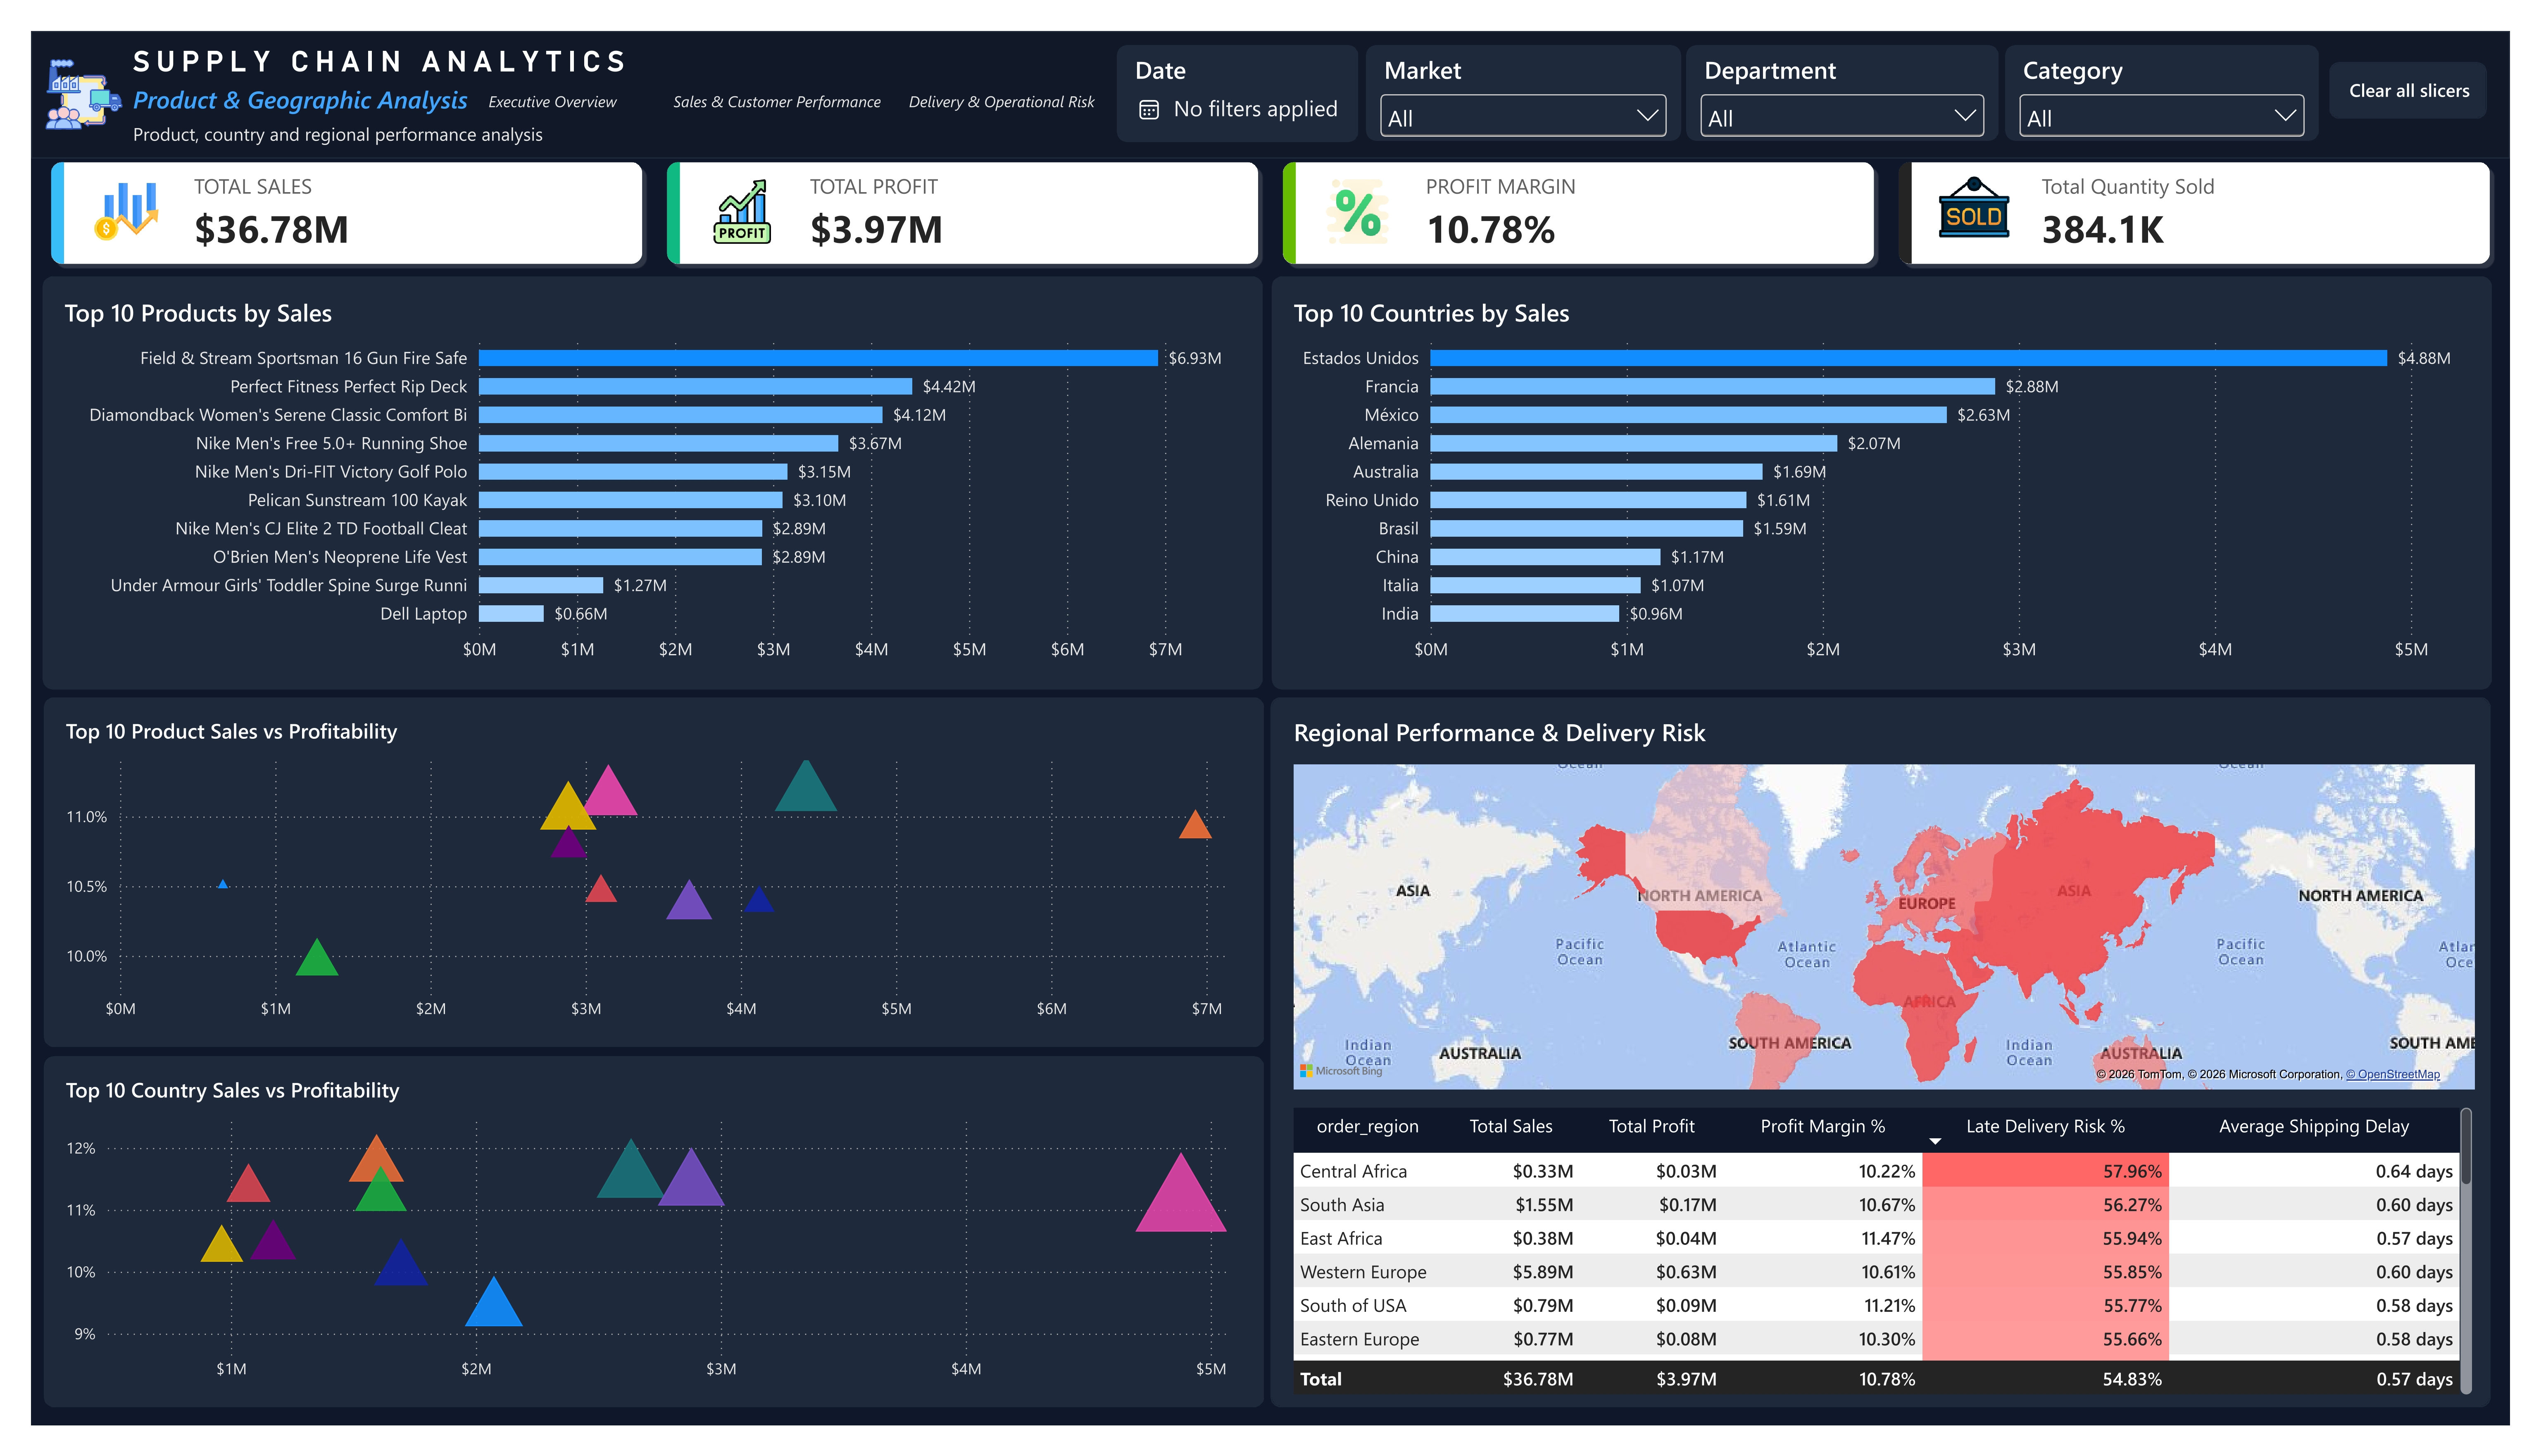

The page's visual inventory and layout, read from the dashboard file:
{"tool":"powerbi","page":{"name":"Product & Geographic Analysis","canvas":[1920,1080],"ordinal":3},"visuals":[{"type":"shape","box":[960,516.2,945,550],"z":0,"group":"g2"},{"type":"shape","box":[0,0,1919.6,99.4],"z":1000,"group":"g3"},{"type":"scatterChart","title":"Top 10 Country Sales vs Profitability","fields":{"X":["_Measures.Total Sales"],"Y":["_Measures.Profit Margin %"],"Size":["_Measures.Total Quantity Sold"],"Category":["dim_location.order_country"]},"box":[10,794.3,945,272],"z":1000},{"type":"pivotTable","title":"Regional Performance & Delivery Risk","fields":{"Rows":["dim_location.order_region"],"Values":["_Measures.Total Sales","_Measures.Total Profit","_Measures.Profit Margin %","_Measures.Late Delivery Risk %","_Measures.Average Shipping Delay"]},"box":[962,820.3,945.1,243.8],"z":1000,"group":"g2"},{"type":"group","id":"g1","title":"Filter pane","box":[841.2,11.3,1060.9,75],"z":2000,"group":"g3"},{"type":"scatterChart","title":"Top 10 Product Sales vs Profitability","fields":{"X":["_Measures.Total Sales"],"Y":["_Measures.Profit Margin %"],"Category":["dim_product.product_name"],"Size":["_Measures.Total Quantity Sold"]},"box":[10,515.7,945,271.4],"z":2000},{"type":"filledMap","title":"Regional Performance & Delivery Risk","fields":{"Category":["dim_location.order_region"]},"box":[962,516,947.1,306.3],"z":2000,"group":"g2"},{"type":"textbox","title":"S U P P L Y   C H A I N   A N A L Y T I C S","box":[74.3,5.7,400,90],"z":3000,"group":"g3"},{"type":"clusteredBarChart","title":"Top 10 Countries by Sales","fields":{"Y":["_Measures.Total Sales"],"Category":["dim_location.order_country"]},"box":[961.2,190,945,320],"z":3000},{"type":"pageNavigator","box":[320.7,40,516,30],"z":4000,"group":"g3"},{"type":"clusteredBarChart","title":"Top 10 Products by Sales","fields":{"Category":["dim_product.product_name"],"Y":["_Measures.Total Sales"]},"box":[8.7,190,945,320],"z":4000},{"type":"image","box":[10.6,18.9,60,60],"z":5000,"group":"g3"},{"type":"cardVisual","fields":{"Data":["_Measures.Total Sales","_Measures.Total Profit","_Measures.Profit Margin %","_Measures.Total Quantity Sold"]},"box":[10,96,1900,90],"z":5000},{"type":"actionButton","box":[1779.9,24.4,122.2,44.4],"z":5500,"group":"g1"},{"type":"group","id":"g2","title":"Regional Performance","box":[960,516,949.1,550.2],"z":5500},{"type":"group","id":"g3","title":"Nav Bar","box":[0,0,1919.6,99.4],"z":6000},{"type":"slicer","title":"Date","fields":{"Values":["dim_date.full_date"]},"box":[841.2,11.3,187.2,75],"z":6000,"group":"g1"},{"type":"slicer","title":"Location","fields":{"Values":["dim_location.market"]},"box":[1034.3,11.3,243.4,73.7],"z":7000,"group":"g1"},{"type":"slicer","title":"Customer","fields":{"Values":["dim_product.department_name"]},"box":[1282.4,11.3,242.2,73.7],"z":9000,"group":"g1"},{"type":"slicer","title":"Shipping Mode","fields":{"Values":["dim_product.category_name"]},"box":[1529.4,11.3,242.9,74.4],"z":10000,"group":"g1"}]}

Visuals, with their boxes on the page's 1920x1080 design canvas (x1, y1, x2, y2). These are canvas units, not pixel positions in the 2541x1456 screenshot, which may show the page scaled, cropped or inside an application window:
shape: l=960, t=516, r=1905, b=1066
shape: l=0, t=0, r=1920, b=99
"Top 10 Country Sales vs Profitability" scatterChart: l=10, t=794, r=955, b=1066
"Regional Performance & Delivery Risk" pivotTable: l=962, t=820, r=1907, b=1064
"Filter pane" group: l=841, t=11, r=1902, b=86
"Top 10 Product Sales vs Profitability" scatterChart: l=10, t=516, r=955, b=787
"Regional Performance & Delivery Risk" filledMap: l=962, t=516, r=1909, b=822
"S U P P L Y   C H A I N   A N A L Y T I C S" textbox: l=74, t=6, r=474, b=96
"Top 10 Countries by Sales" clusteredBarChart: l=961, t=190, r=1906, b=510
pageNavigator: l=321, t=40, r=837, b=70
"Top 10 Products by Sales" clusteredBarChart: l=9, t=190, r=954, b=510
image: l=11, t=19, r=71, b=79
cardVisual - _Measures.Total Sales x _Measures.Total Profit: l=10, t=96, r=1910, b=186
actionButton: l=1780, t=24, r=1902, b=69
"Regional Performance" group: l=960, t=516, r=1909, b=1066
"Nav Bar" group: l=0, t=0, r=1920, b=99
"Date" slicer: l=841, t=11, r=1028, b=86
"Location" slicer: l=1034, t=11, r=1278, b=85
"Customer" slicer: l=1282, t=11, r=1525, b=85
"Shipping Mode" slicer: l=1529, t=11, r=1772, b=86
